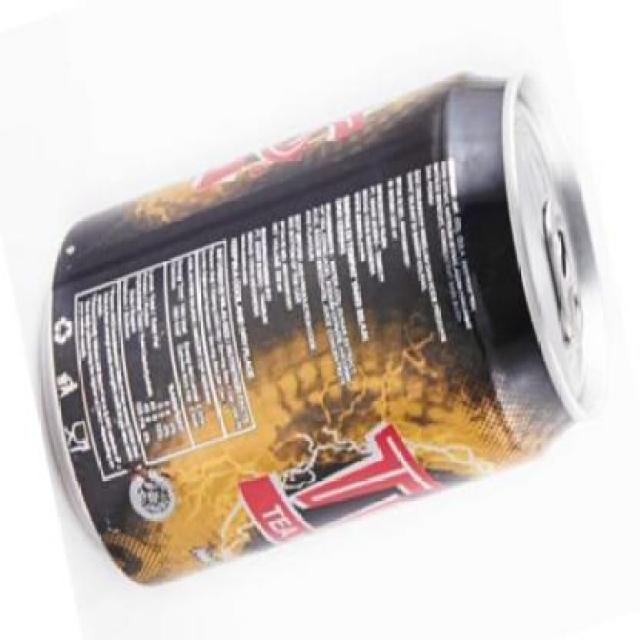Metal: (41, 69, 604, 588)
